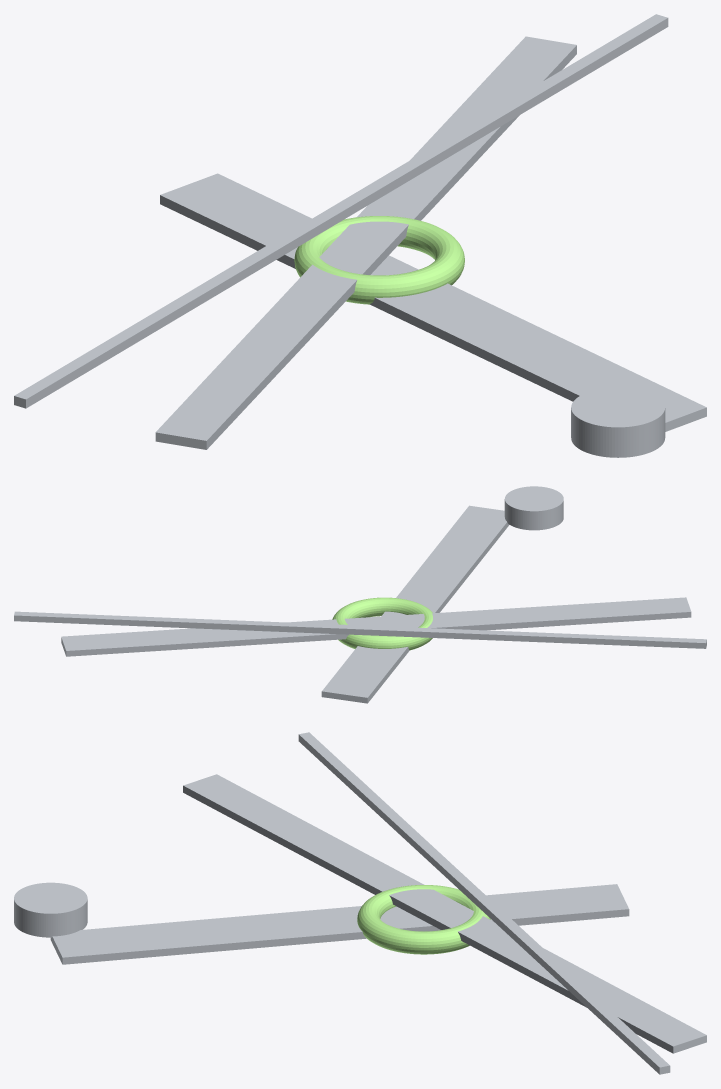
File: hands_mercedes_v1.glb
3 views of the same model, one above another, from view 1: azimuth 30°, elevation 25°; view 2: azimuth 150°, elevation 25°; view 3: azimuth 270°, elevation 25° (orthographic). The views are drawn at different scales.
Visible parts, largest first — view 1: DD_HAND_MINUTE, DD_HAND_HOUR, DD_HAND_SECONDS, DD_HAND_HOUR_MARKER, DD_HAND_HUB; view 2: DD_HAND_MINUTE, DD_HAND_HOUR, DD_HAND_SECONDS, DD_HAND_HOUR_MARKER, DD_HAND_HUB; view 3: DD_HAND_MINUTE, DD_HAND_HOUR, DD_HAND_SECONDS, DD_HAND_HOUR_MARKER, DD_HAND_HUB.
Part boxes in pixels (x1,y1,x2,y2): DD_HAND_MINUTE: (155, 36, 576, 449); DD_HAND_HOUR: (160, 173, 706, 431); DD_HAND_SECONDS: (14, 14, 668, 408); DD_HAND_HOUR_MARKER: (294, 216, 464, 304); DD_HAND_HUB: (571, 387, 665, 457); DD_HAND_MINUTE: (61, 597, 691, 656); DD_HAND_HOUR: (321, 505, 509, 703); DD_HAND_SECONDS: (14, 611, 706, 648); DD_HAND_HOUR_MARKER: (332, 597, 432, 650); DD_HAND_HUB: (504, 486, 563, 530); DD_HAND_MINUTE: (183, 774, 706, 1053); DD_HAND_HOUR: (50, 884, 629, 964); DD_HAND_SECONDS: (298, 732, 670, 1074); DD_HAND_HOUR_MARKER: (357, 885, 490, 954); DD_HAND_HUB: (14, 882, 87, 937).
Size of the model in its own units: 15.09 by 0.67 by 13.18.
